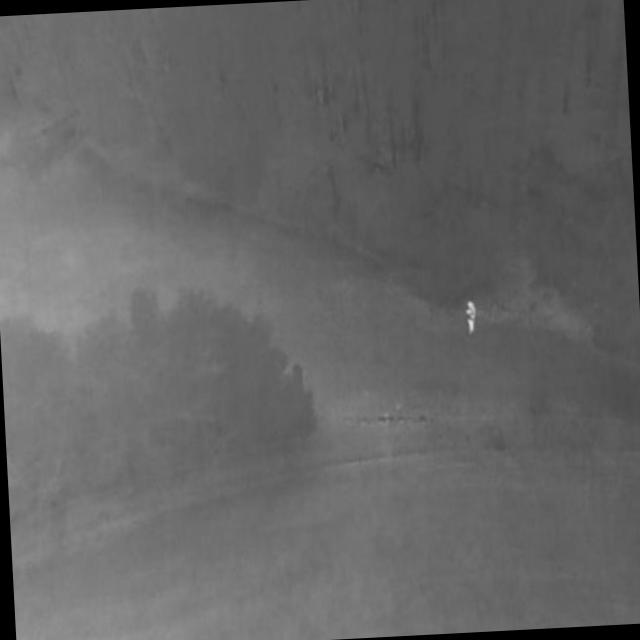person: (464, 300, 478, 337)
